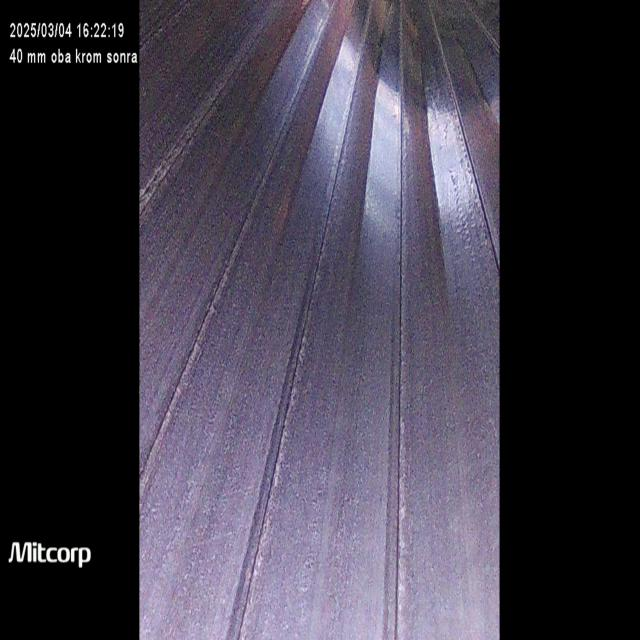hata_8.1: (208, 218, 342, 640)
